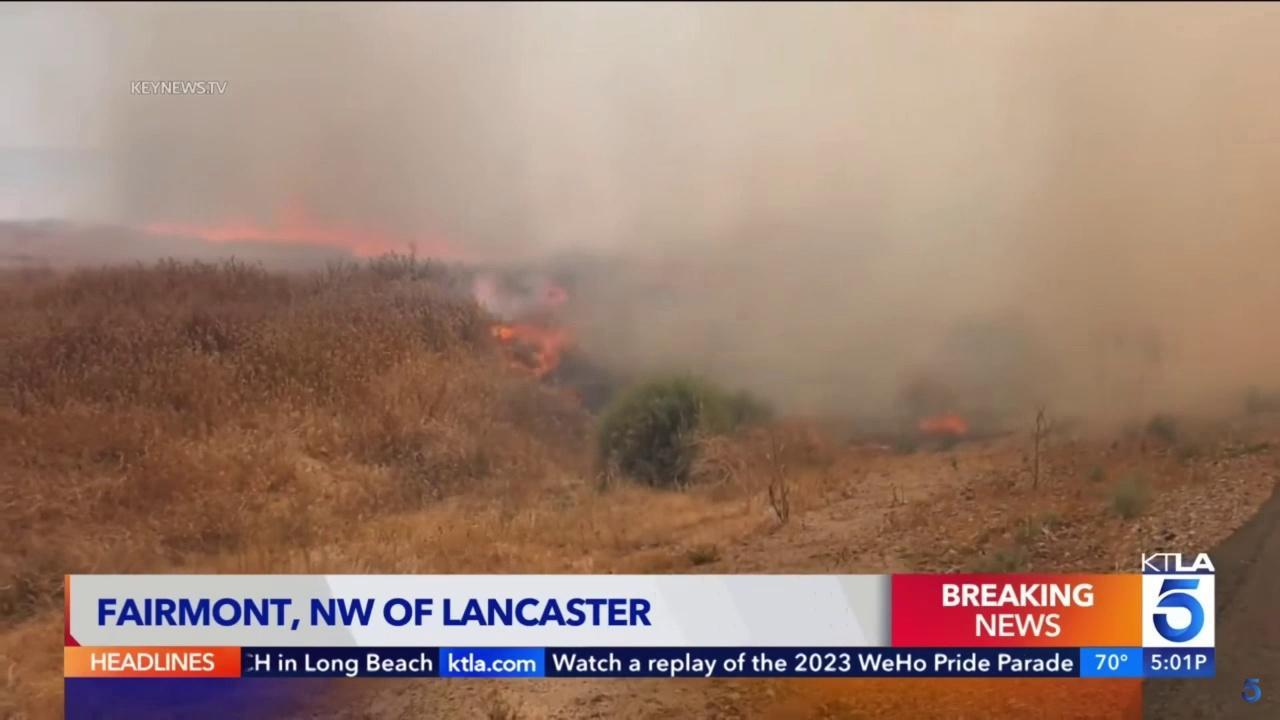fire: (138, 195, 472, 265), (487, 318, 575, 378), (909, 404, 975, 446)
smoke: (0, 0, 1280, 463)
